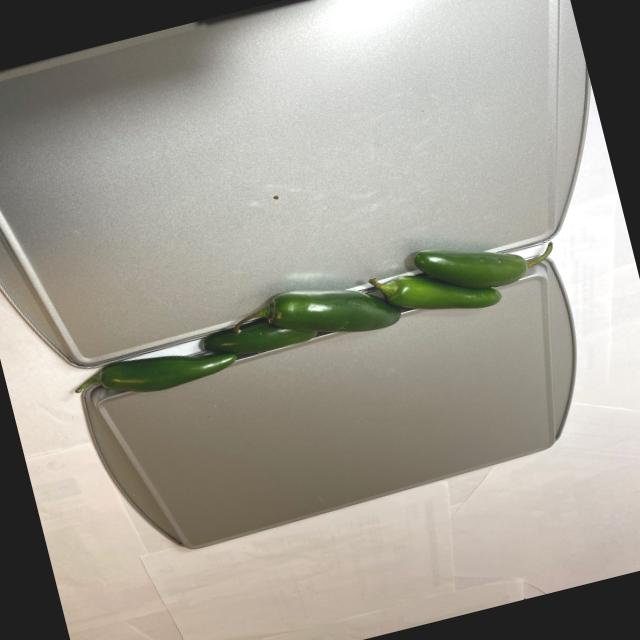chilli: (55, 222, 564, 414)
